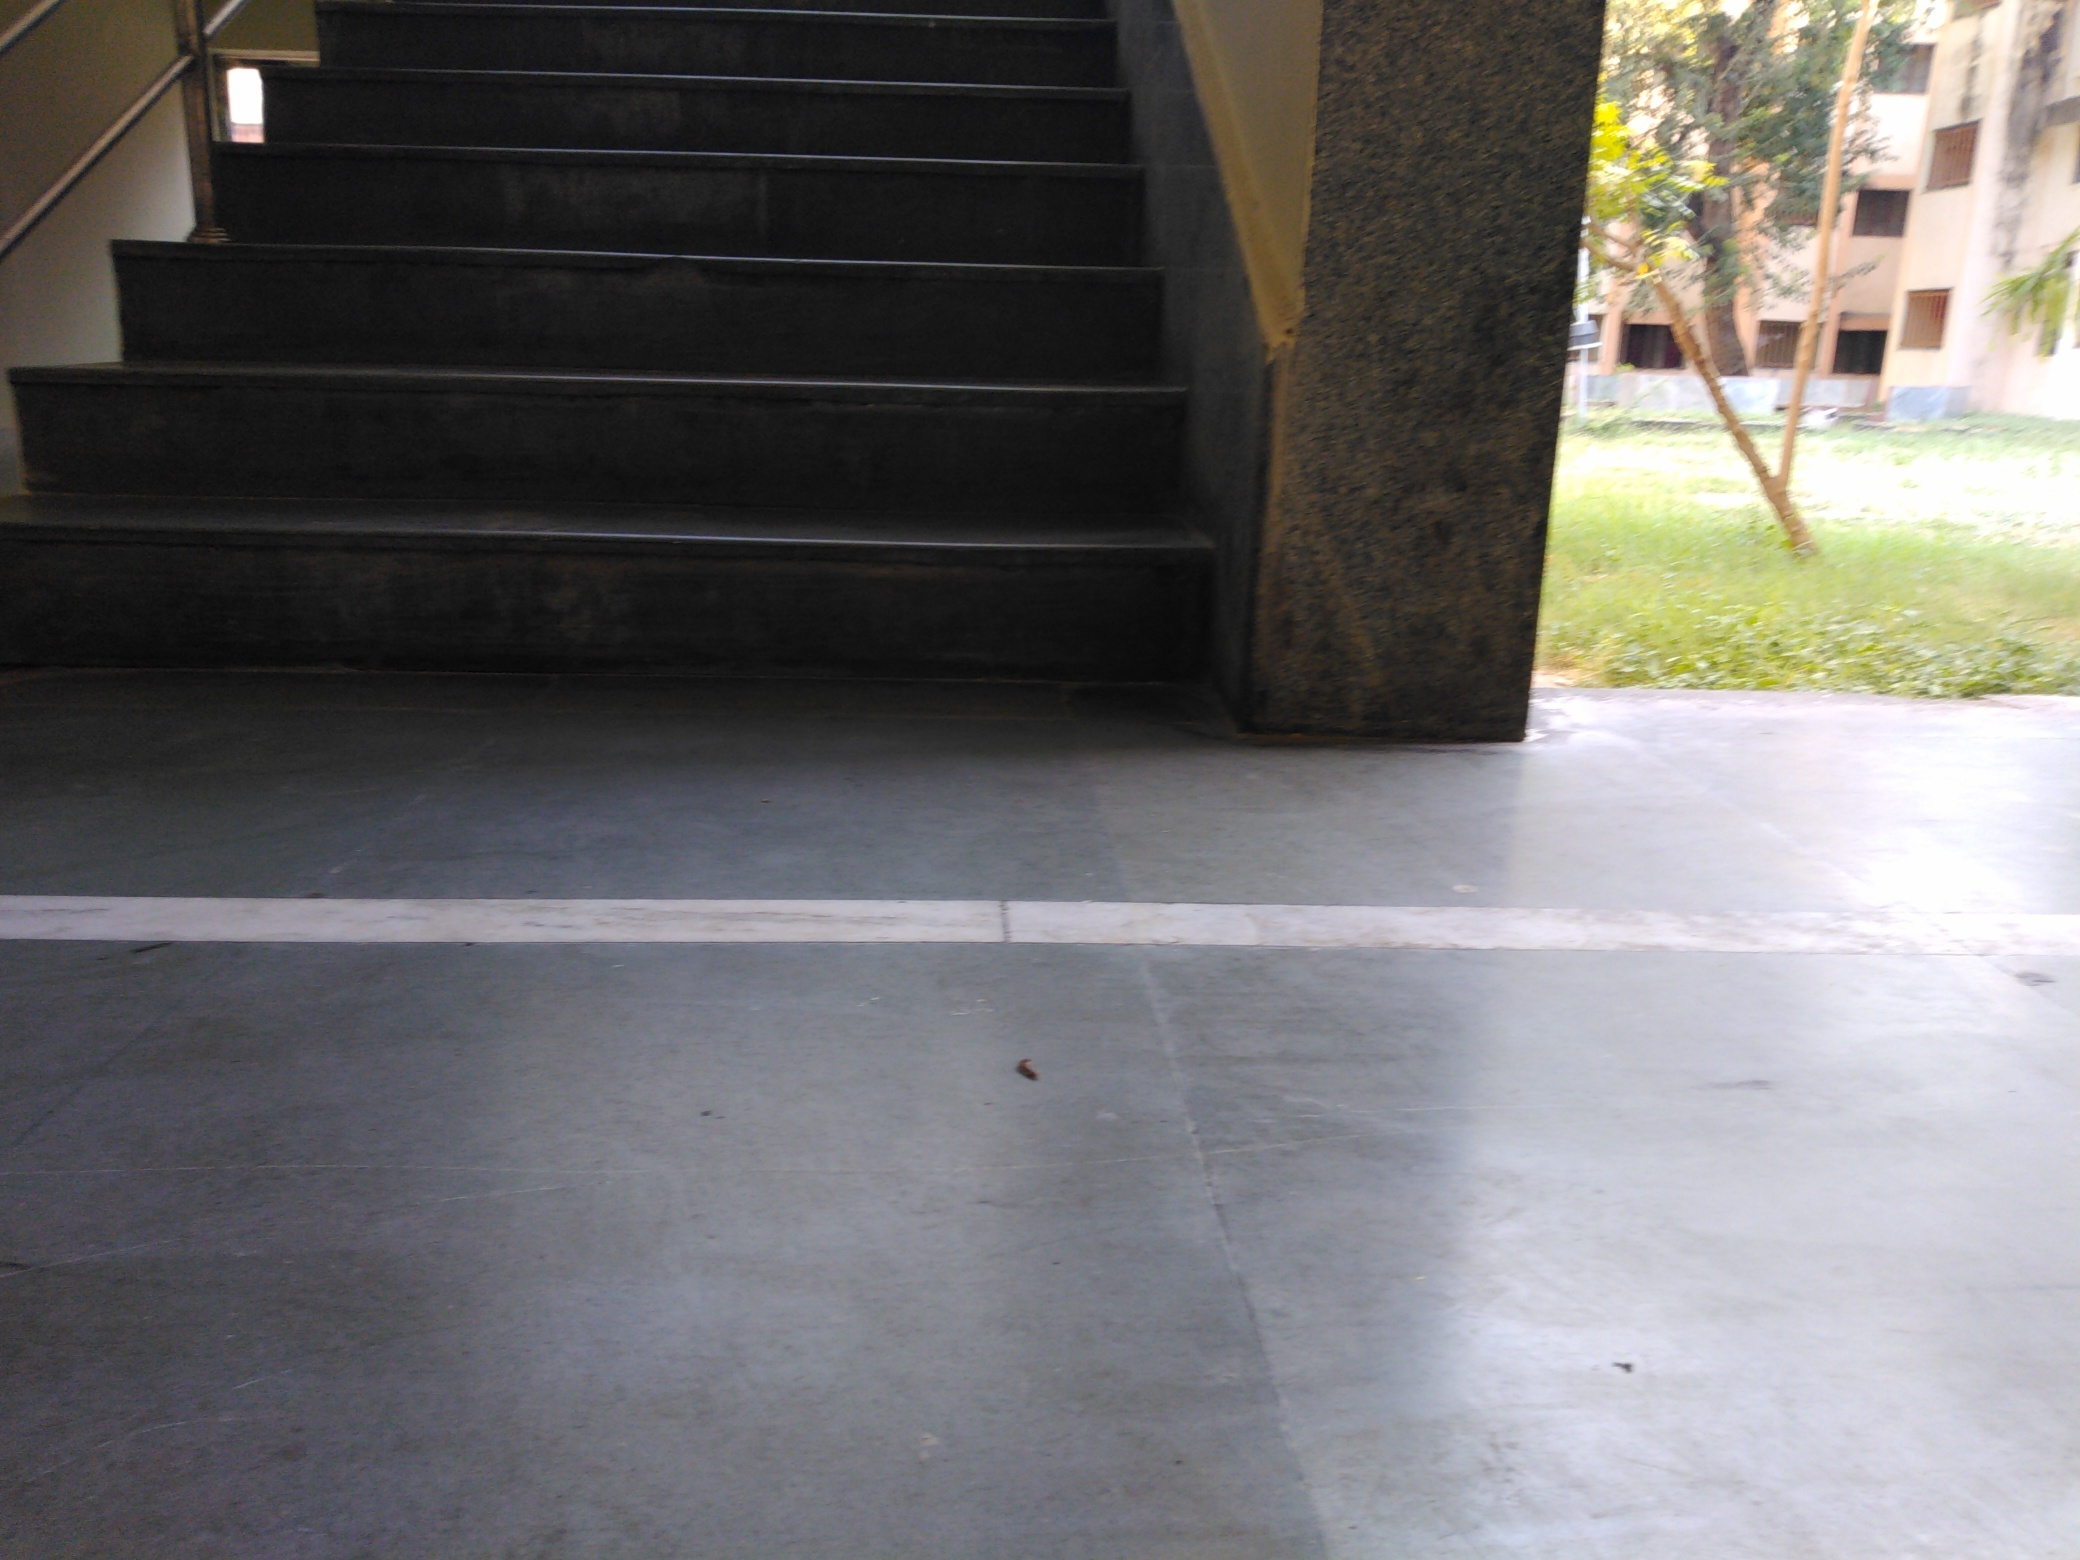stairs_up: (15, 29, 1212, 713)
